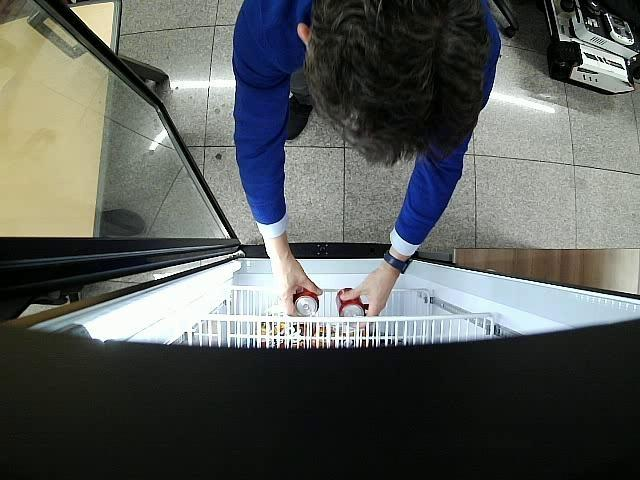11_cocaColaZero: (336, 288, 364, 318), (295, 287, 319, 316)
